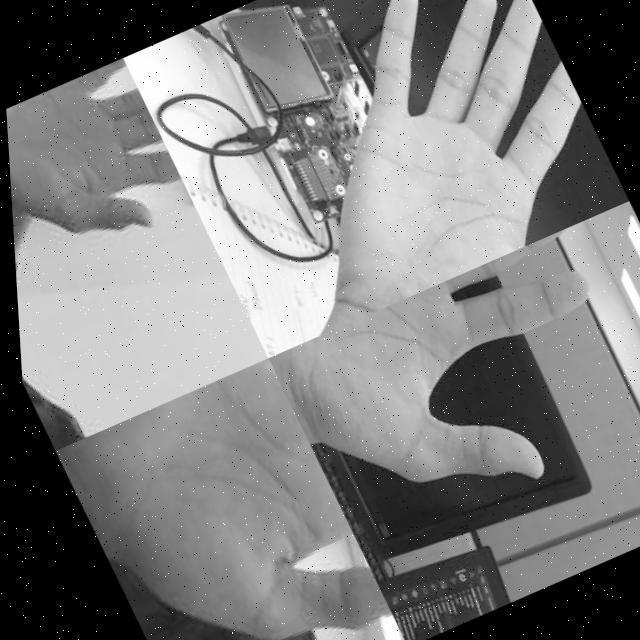no-gloves: (256, 224, 640, 559), (245, 0, 631, 311), (44, 358, 390, 640), (3, 58, 197, 279)
